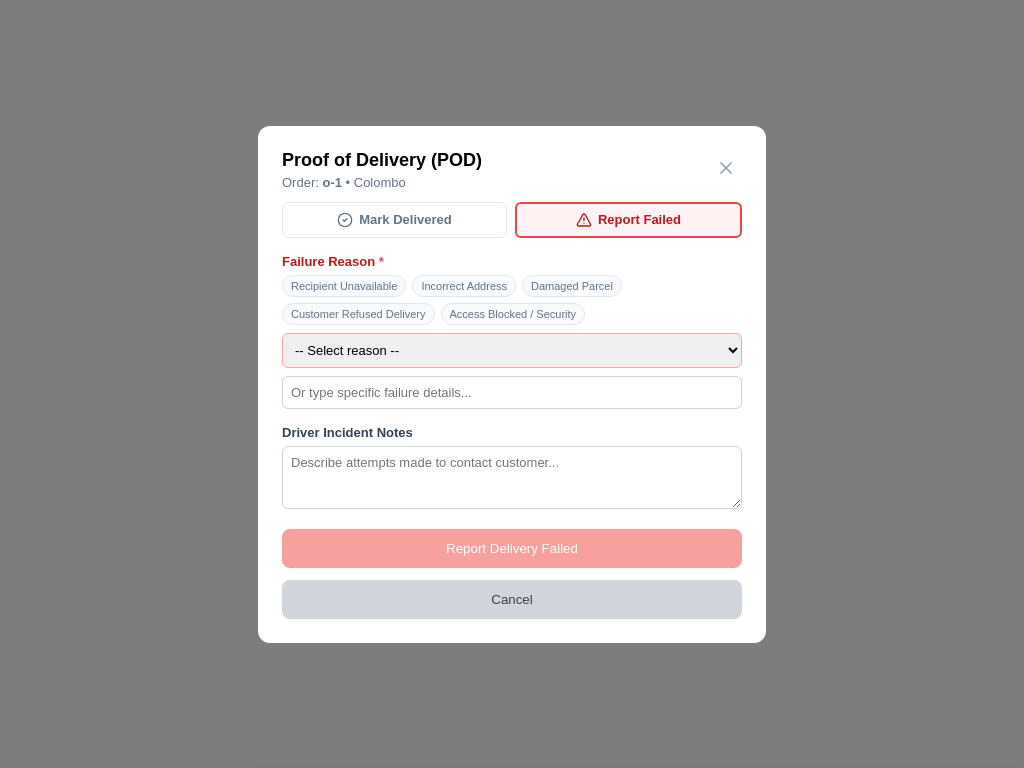
Scenario: ProofOfDeliveryModal › reporting a failure needs a reason and sends only failure data
Later steps or results of the test are not shown.
Expected: the button "Report Delivery Failed" is disabled, [282, 528, 742, 568]
Click the button "Damaged Parcel".
click(572, 286)  # box [522, 274, 622, 296]
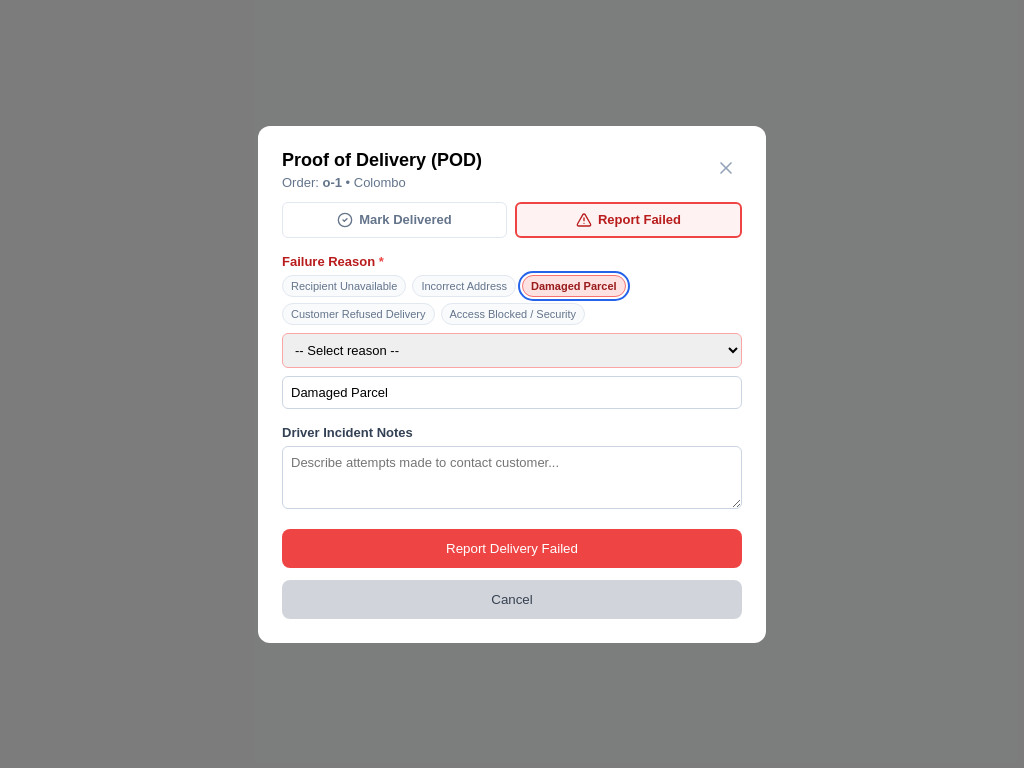
Now the button "Report Delivery Failed" is enabled, box [282, 528, 742, 568]
